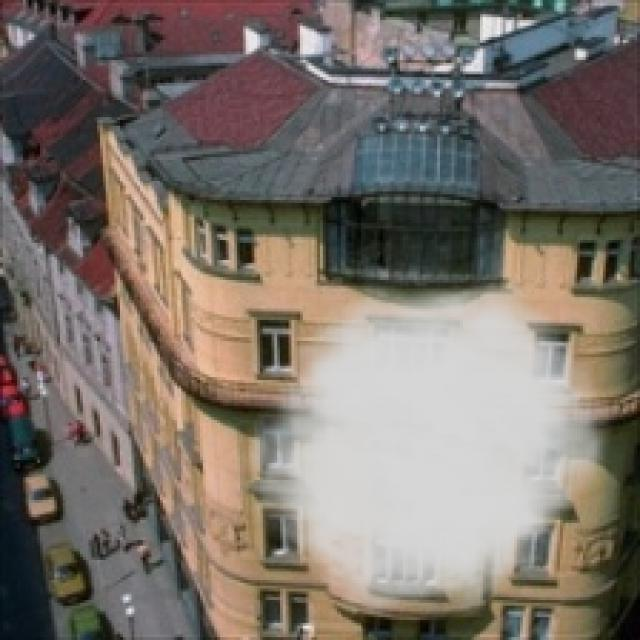Smoke: (234, 266, 623, 618)
